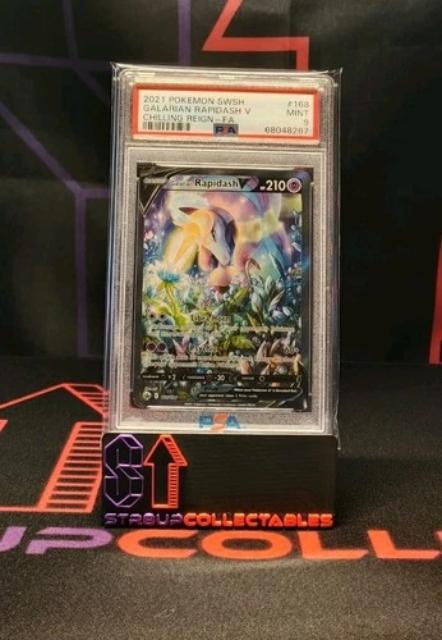Card: (131, 160, 314, 411)
Name: (168, 173, 254, 192)
